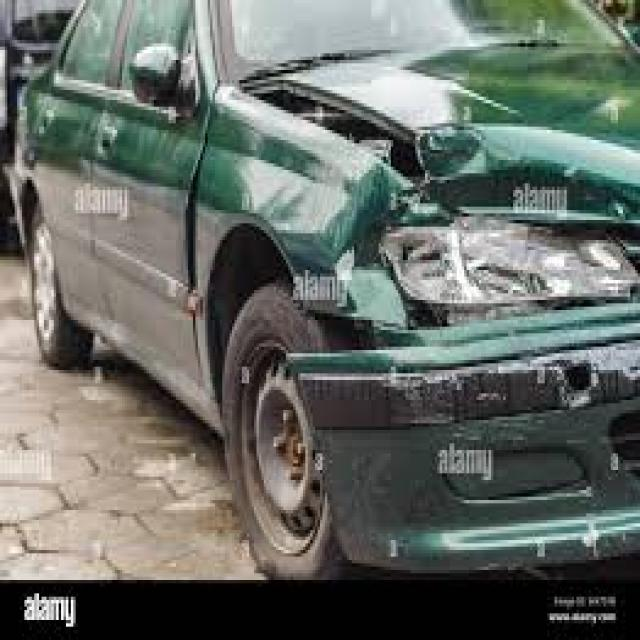damaged-head-light: (391, 218, 636, 304)
